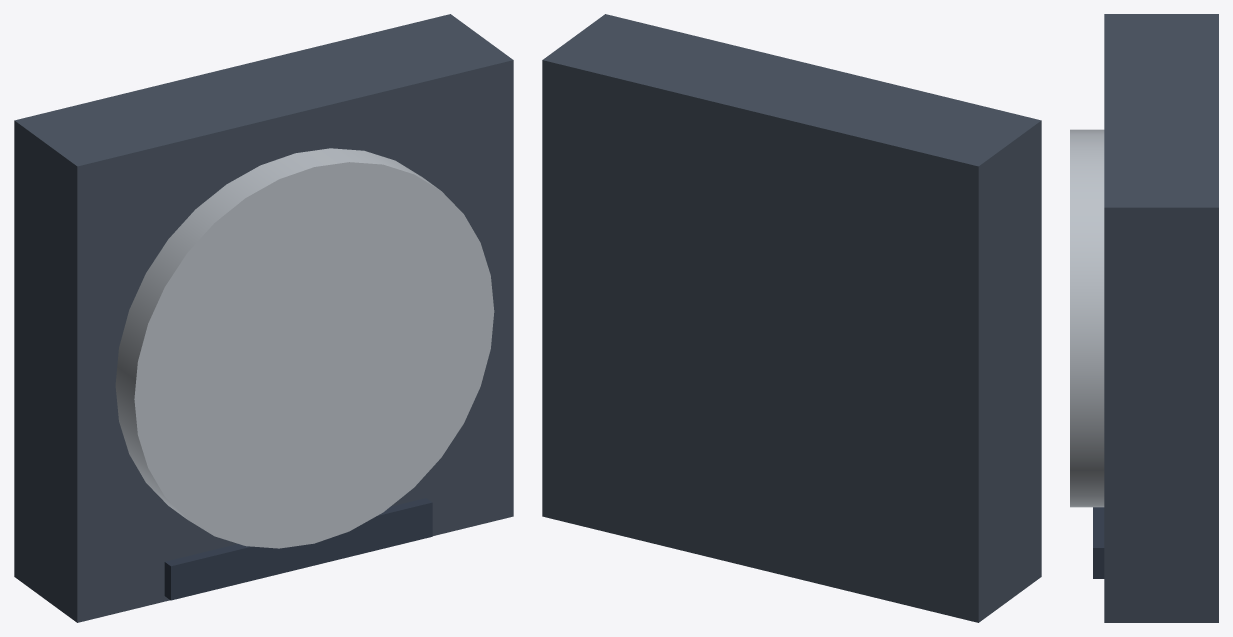
The model's file is pushbutton.glb.
3 views of the same model, side by side, from view 1: azimuth 30°, elevation 25°; view 2: azimuth 150°, elevation 25°; view 3: azimuth 270°, elevation 25° (orthographic). The views are drawn at different scales.
Visible parts, largest first — view 1: panel; view 2: panel; view 3: panel.
Part boxes in pixels (left/top/right/bottom): panel: left=14, top=14, right=513, bottom=622; panel: left=542, top=14, right=1041, bottom=622; panel: left=1070, top=14, right=1218, bottom=622.
Size of the model in its own units: 0.08 by 0.08 by 0.026.
